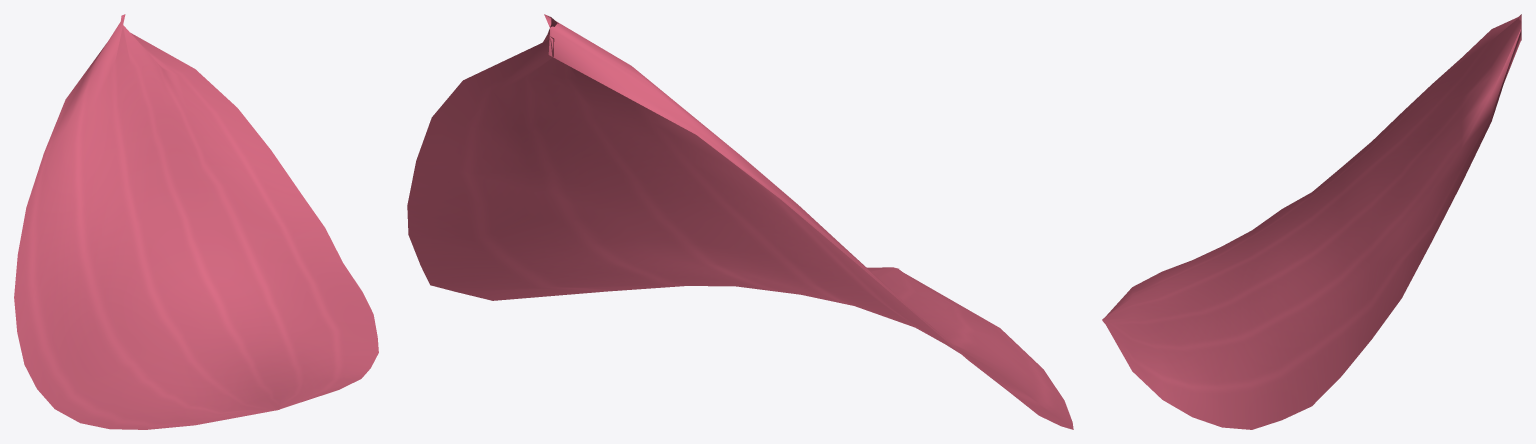
File: petal_05_medium.glb
3 renders of one model, left to right at view 1: azimuth 30°, elevation 25°; view 2: azimuth 150°, elevation 25°; view 3: azimuth 270°, elevation 25°, orthographic. The views are drawn at different scales.
Visible parts, largest first — view 1: petal_05_medium; view 2: petal_05_medium; view 3: petal_05_medium.
Boxes of the visible parts, bbox=[...] form: petal_05_medium: bbox=[14, 14, 378, 429]; petal_05_medium: bbox=[407, 14, 1073, 429]; petal_05_medium: bbox=[1102, 14, 1521, 429].
Size of the model in its own units: 0.0891 by 0.0706 by 0.0794.
Materials: 1 (1 with a texture image).
